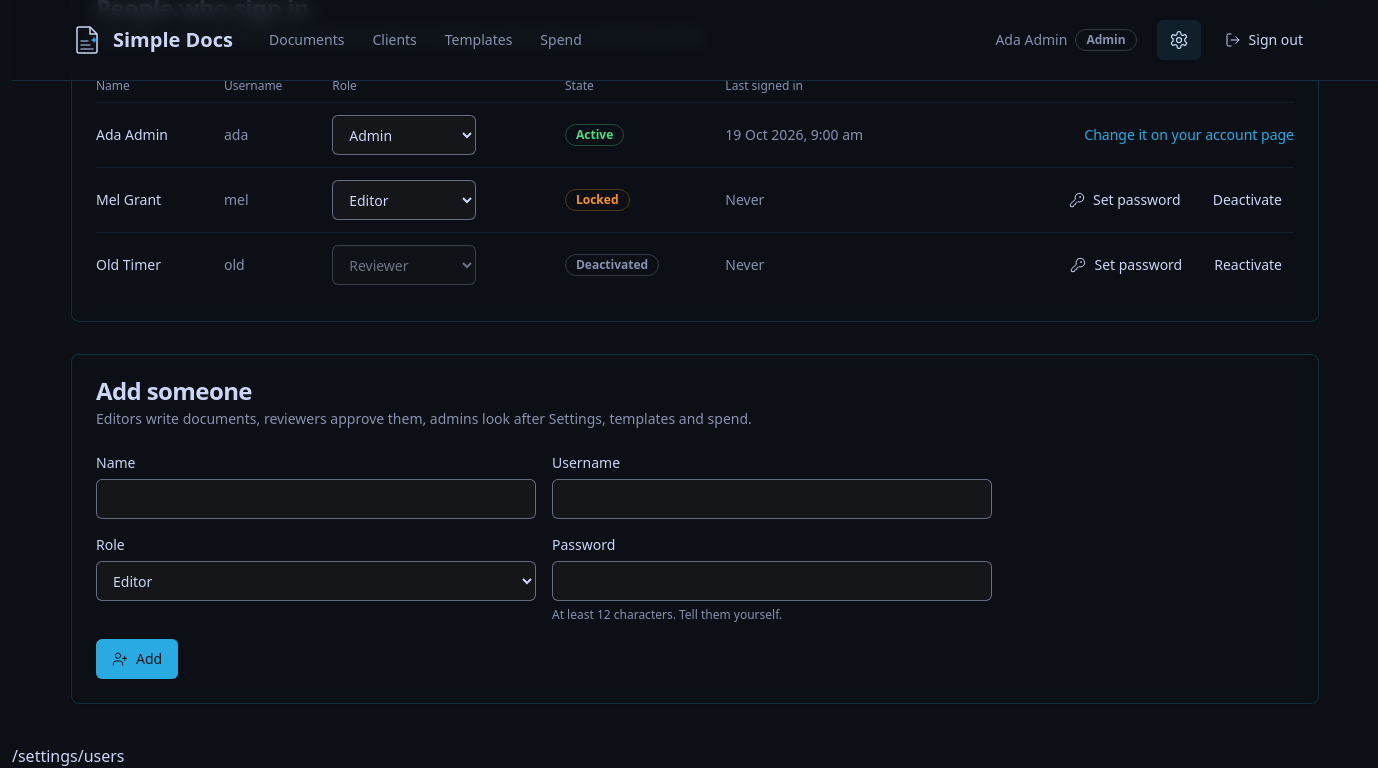
Scenario: Settings → Users › shows what is wrong beside the field
The image size is (1378, 768).
(page scrolled)
Step 1. Type "Mel Two" into the field labelled "Name" → coordinates (316, 499), box [96,479,536,519]
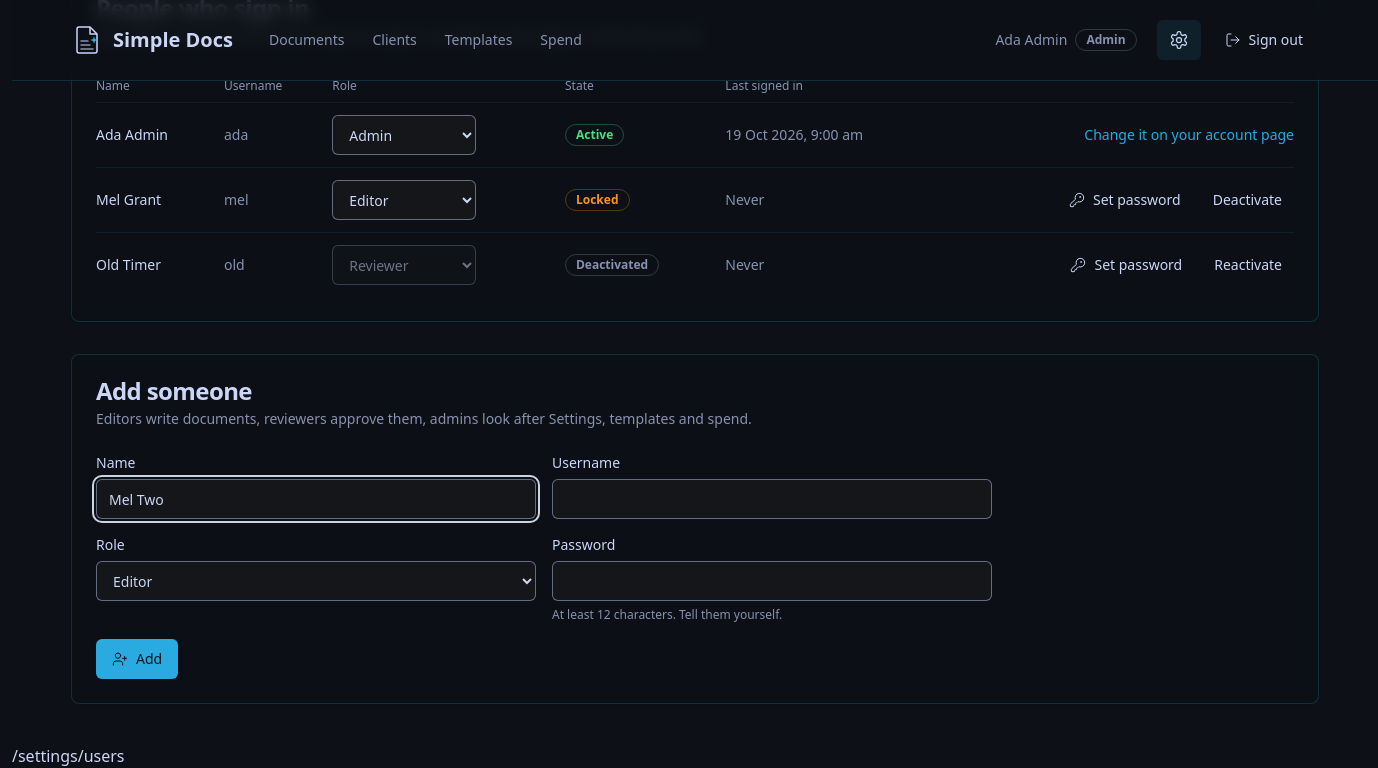
Step 2. Type "mel" into the field labelled "Username" → coordinates (772, 499), box [552,479,992,519]
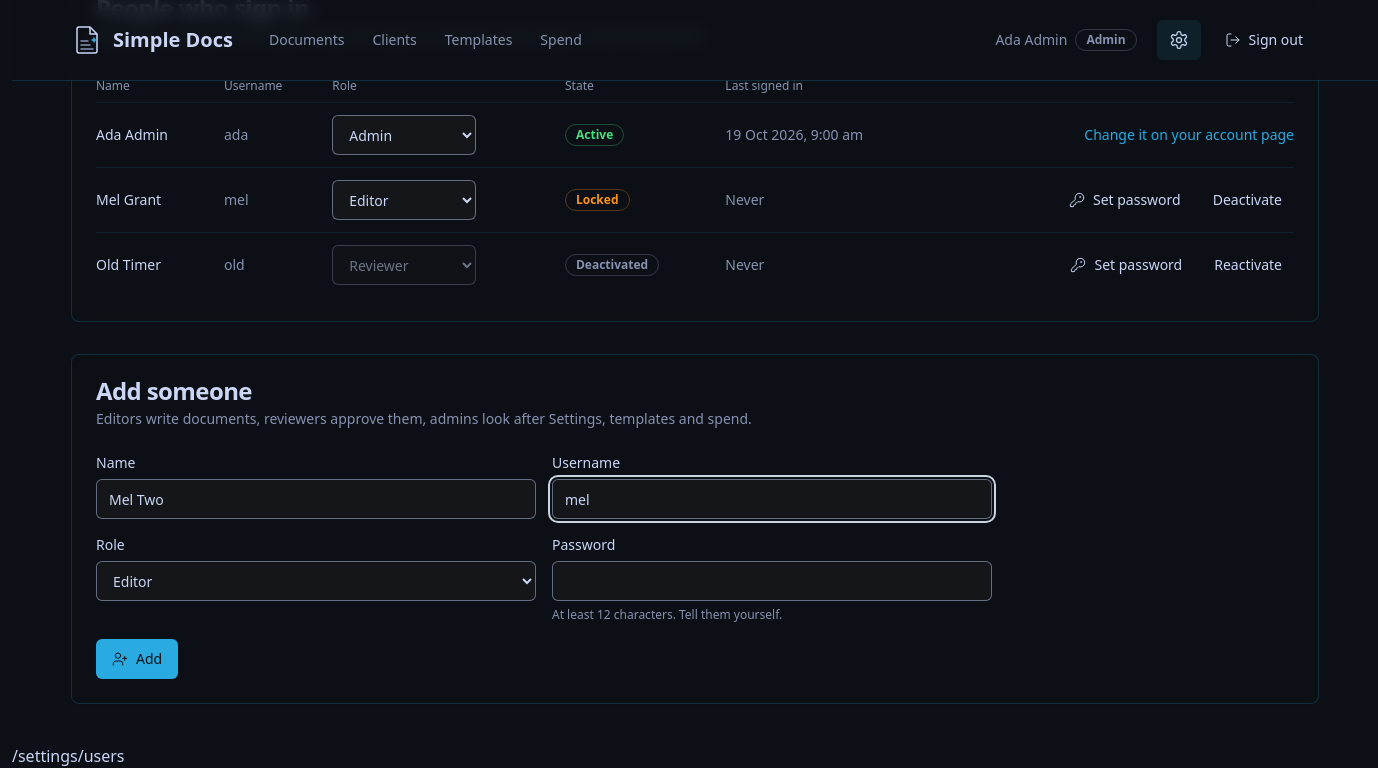
Step 3. Select "Editor" in the dropdown labelled "Role" → coordinates (316, 581), box [96,561,536,601]
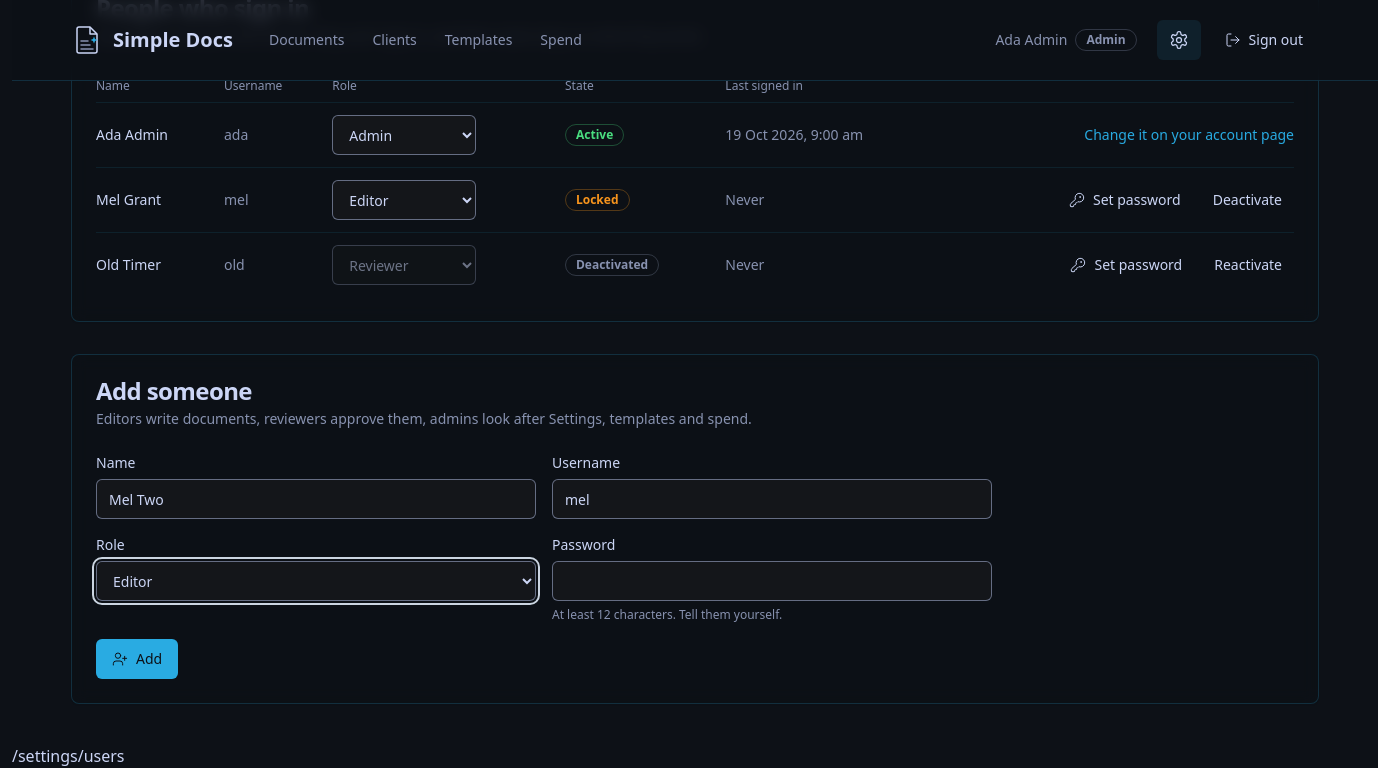
Step 4. Type "another long password" into the password field labelled "Password" → coordinates (772, 581), box [552,561,992,601]
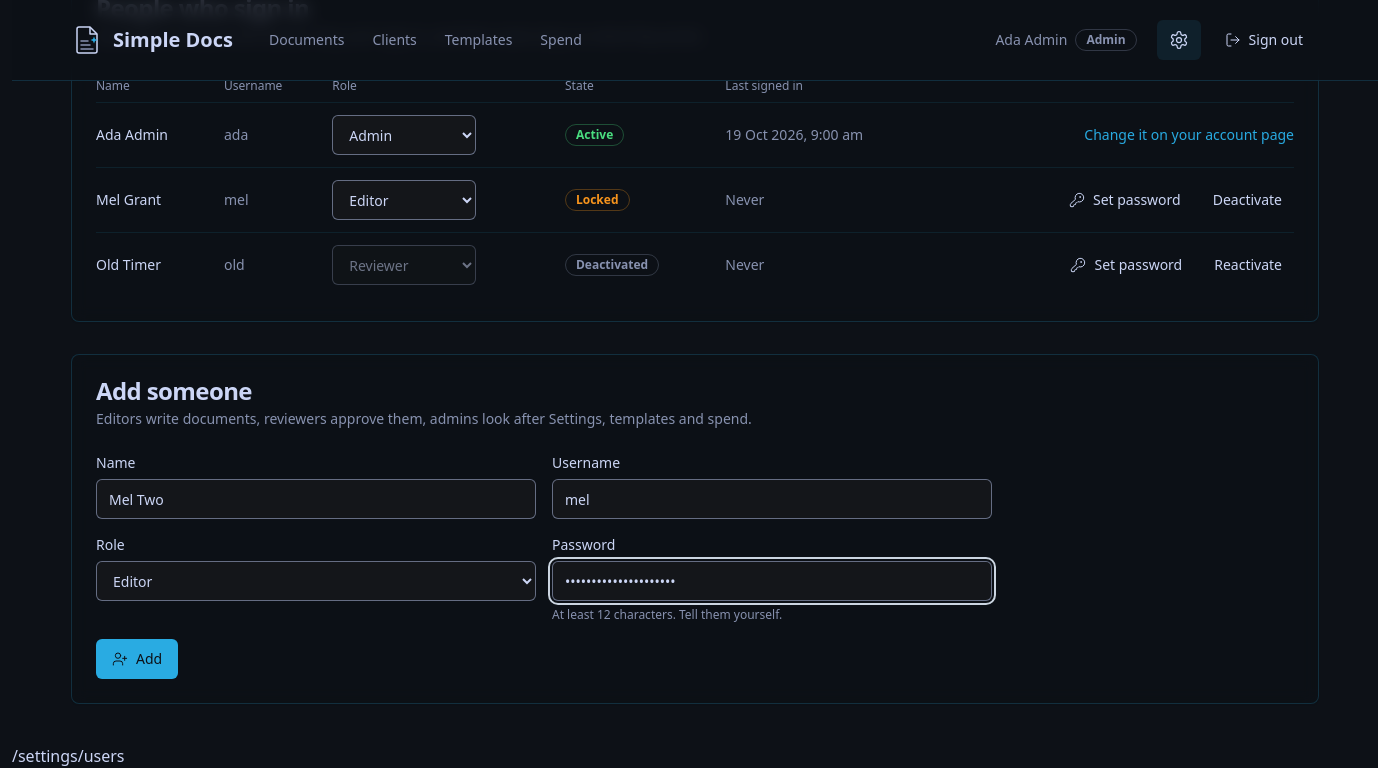
Step 5. Click the button "Add" → coordinates (137, 659), box [96,639,178,679]
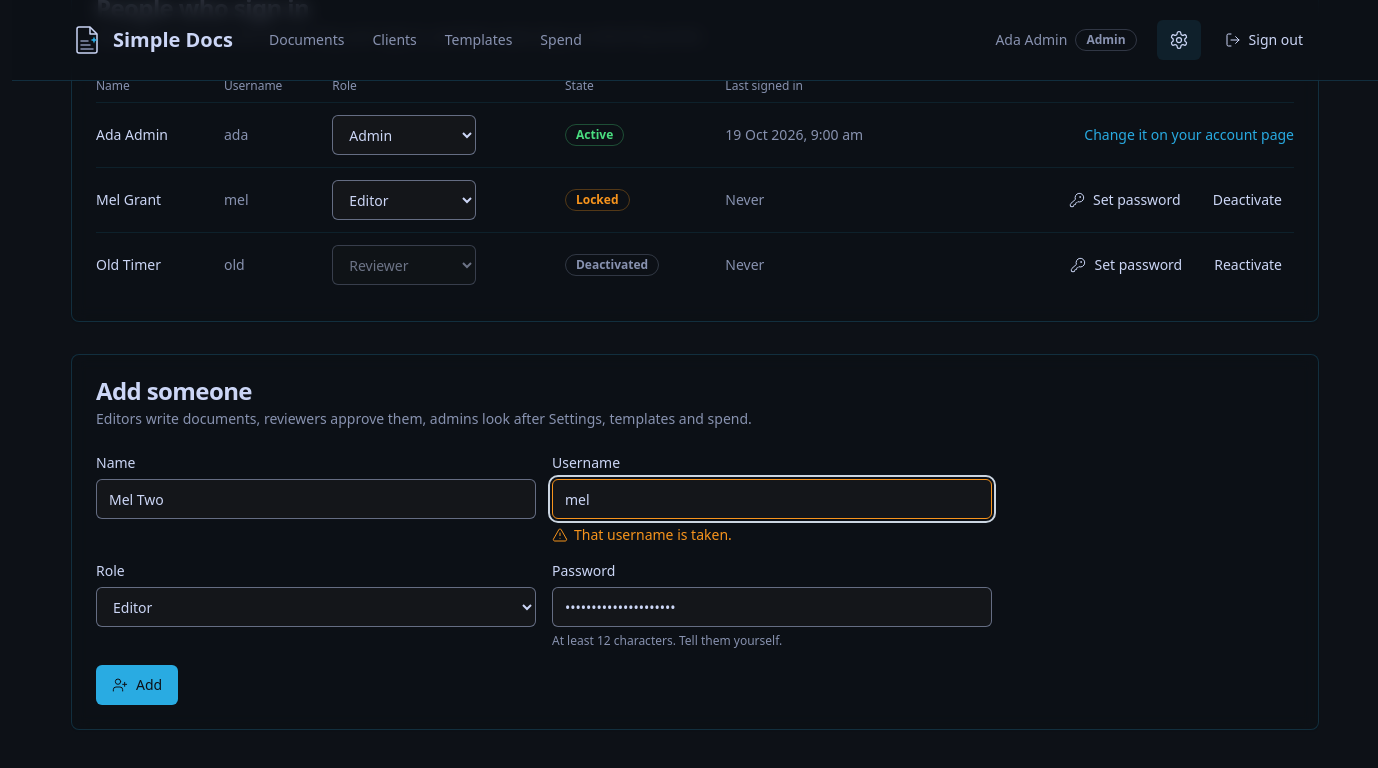
expect the text "That username is taken." is shown: met, box [552,525,732,544]
